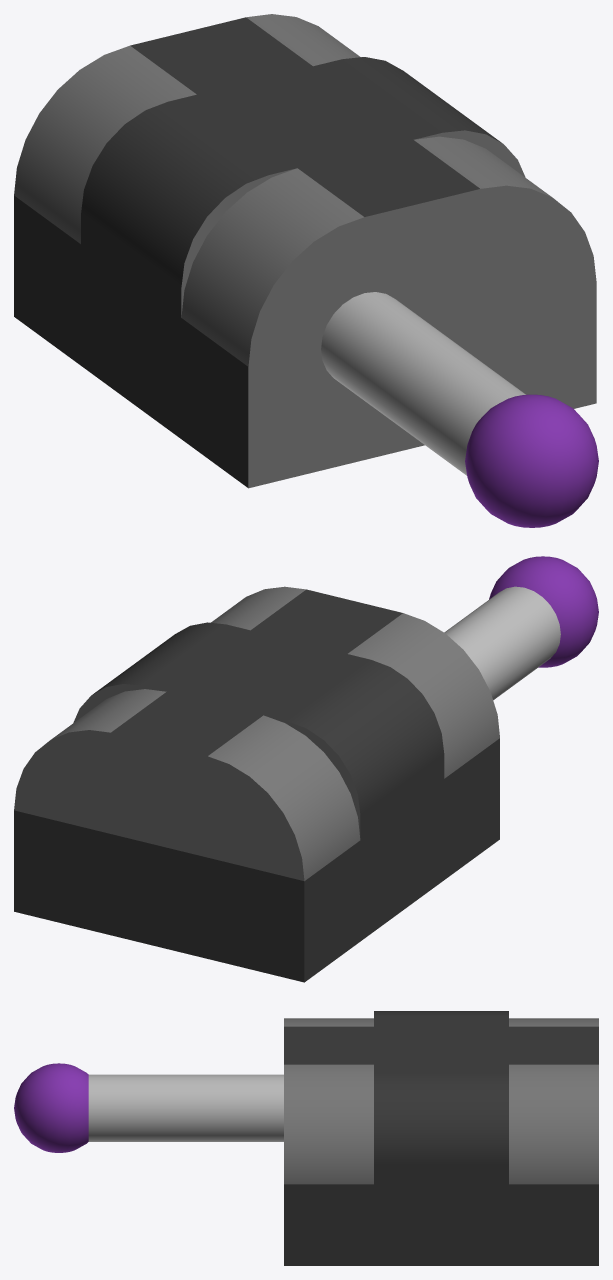
Rendered from TankyRadio.fbx.
The picture shows the model from 3 angles, top to bottom: view 1: azimuth 30°, elevation 25°; view 2: azimuth 150°, elevation 25°; view 3: azimuth 270°, elevation 25°; orthographic projection. The views are drawn at different scales.
Parts seen in each view (by area): view 1: Radio v3; view 2: Radio v3; view 3: Radio v3.
Boxes of the visible parts, x1=… form: Radio v3: x1=14, y1=14, x2=598, y2=527; Radio v3: x1=14, y1=556, x2=598, y2=982; Radio v3: x1=14, y1=1011, x2=598, y2=1265.
Bounding box in the file's own units: 60 × 40 × 130.
